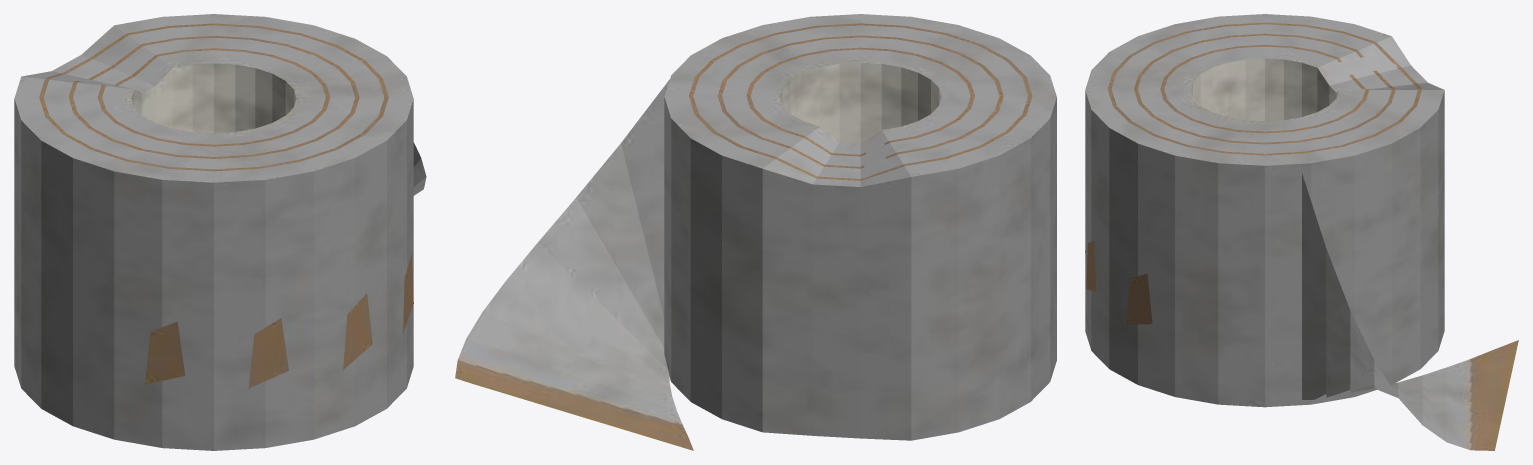
The model's file is HE10_bandage_roll_v2.glb.
3 views of the same model, side by side, from view 1: azimuth 30°, elevation 25°; view 2: azimuth 150°, elevation 25°; view 3: azimuth 270°, elevation 25° (orthographic). The views are drawn at different scales.
Visible parts, largest first — view 1: Hollow_bandage_roll; view 2: Hollow_bandage_roll; view 3: Hollow_bandage_roll.
Boxes of the visible parts, x1,y1,x2,y2 form: Hollow_bandage_roll: (14,14,426,450); Hollow_bandage_roll: (455,14,1056,450); Hollow_bandage_roll: (1085,14,1518,450).
Bounding box in the file's own units: 0.1 × 0.0544 × 0.0882.
4 materials, 4 textured.
